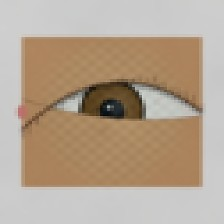hemorrhage_spot: (35, 96, 116, 160)
